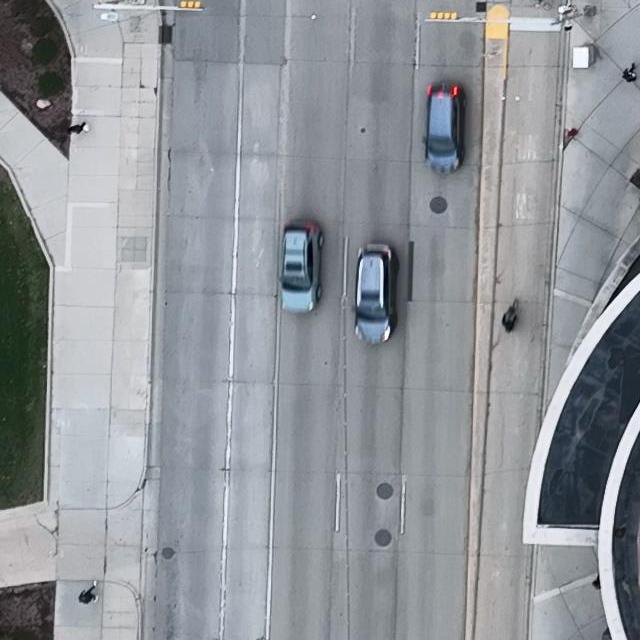car: (352, 243, 399, 344), (277, 219, 325, 313), (422, 80, 466, 174)
